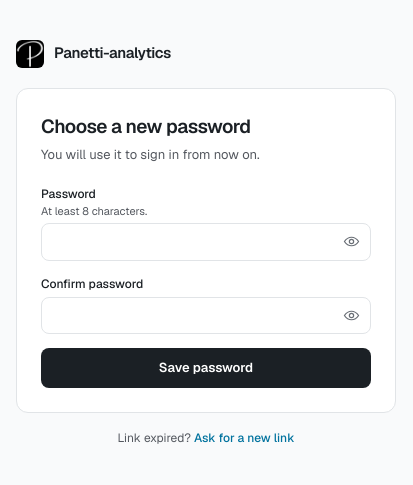
Test: ResetClient › refuses a password below the minimum, without spending the link
In the password field labelled "Password": (206, 242) [41, 223, 371, 260], type "short"
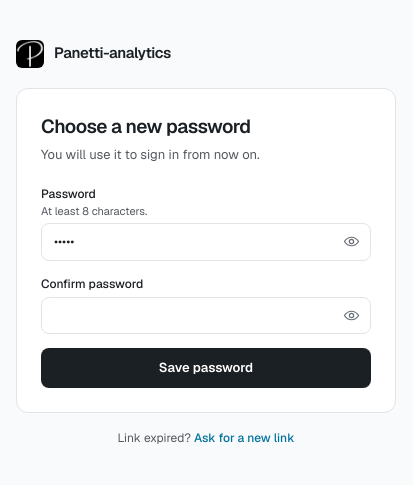
In the password field labelled "Confirm password": (206, 315) [41, 296, 371, 334], type "short"
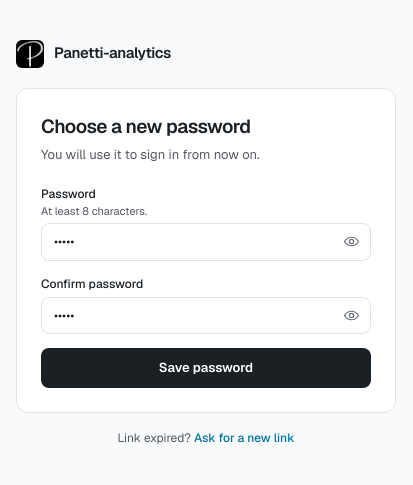
Submit the form with test id "reset-form", box [41, 184, 371, 388]
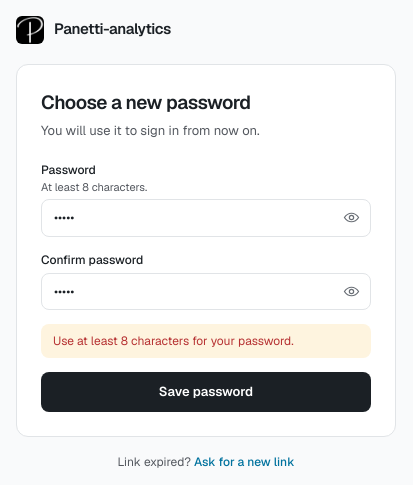
Expected: the message shows "at least 8 characters", [53, 333, 294, 349]
